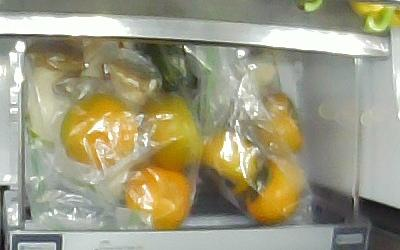persimmon_vinyl: (60, 94, 138, 169), (140, 96, 204, 169), (123, 166, 192, 228), (244, 155, 305, 221), (199, 131, 260, 196), (248, 91, 305, 154)
